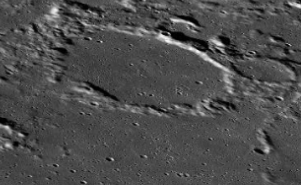crater: (226, 42, 301, 102), (182, 70, 210, 87)
